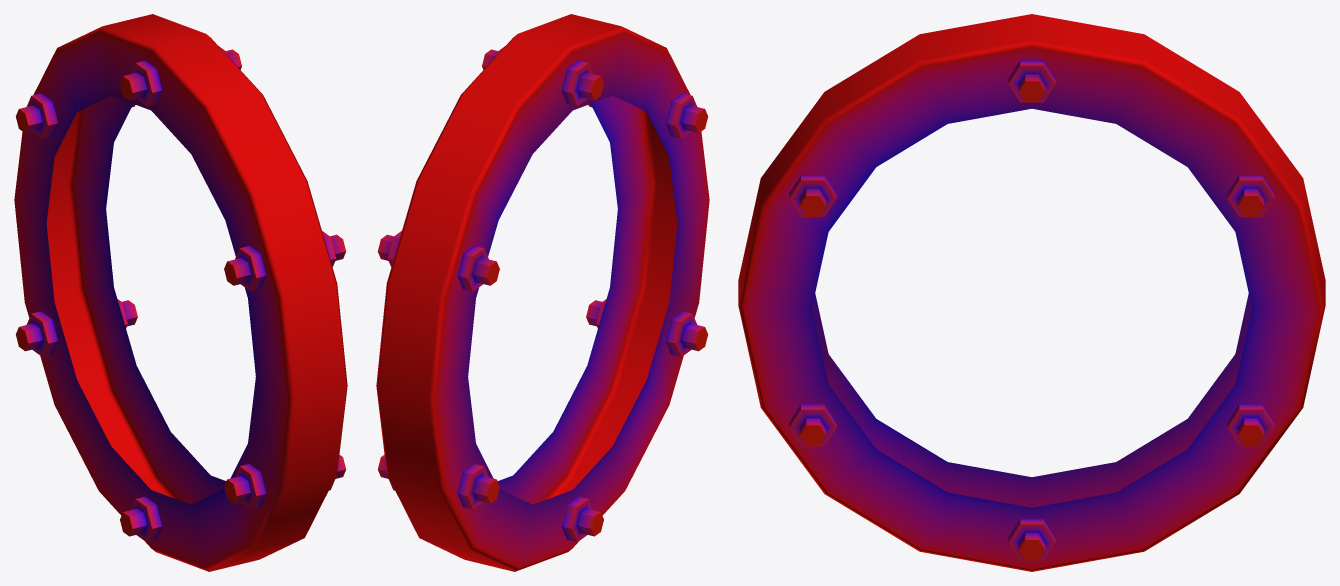
Rendered from PipaB_RingA.fbx.
3 renders of one model, left to right at view 1: azimuth 30°, elevation 25°; view 2: azimuth 150°, elevation 25°; view 3: azimuth 270°, elevation 25°, orthographic. The views are drawn at different scales.
Visible parts, largest first — view 1: Circle.001; view 2: Circle.001; view 3: Circle.001.
Boxes of the visible parts, x1,y1,x2,y2 form: Circle.001: [14, 14, 347, 571]; Circle.001: [376, 14, 709, 571]; Circle.001: [738, 14, 1325, 571].
Size of the model in its own units: 14.74 by 65 by 65.
